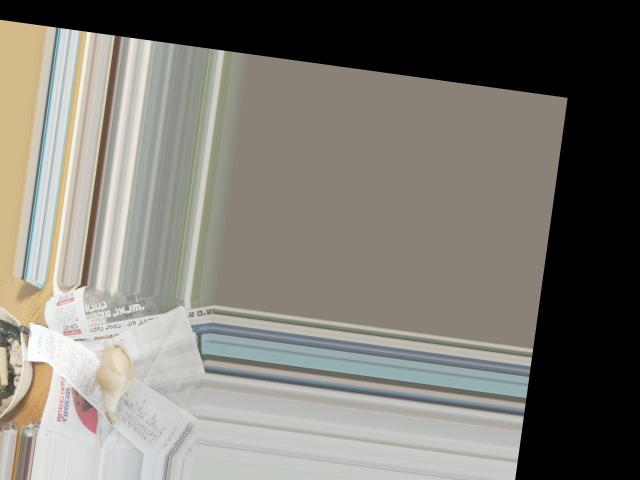onion: (95, 344, 132, 398)
